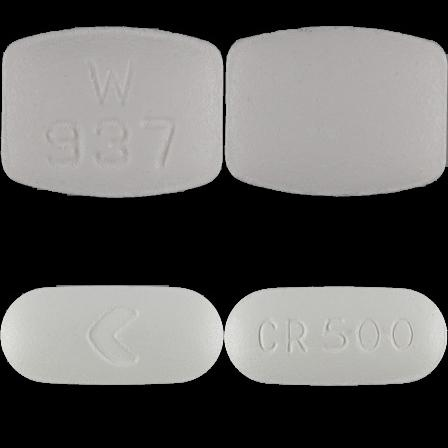35356-730: (0, 0, 224, 224)
